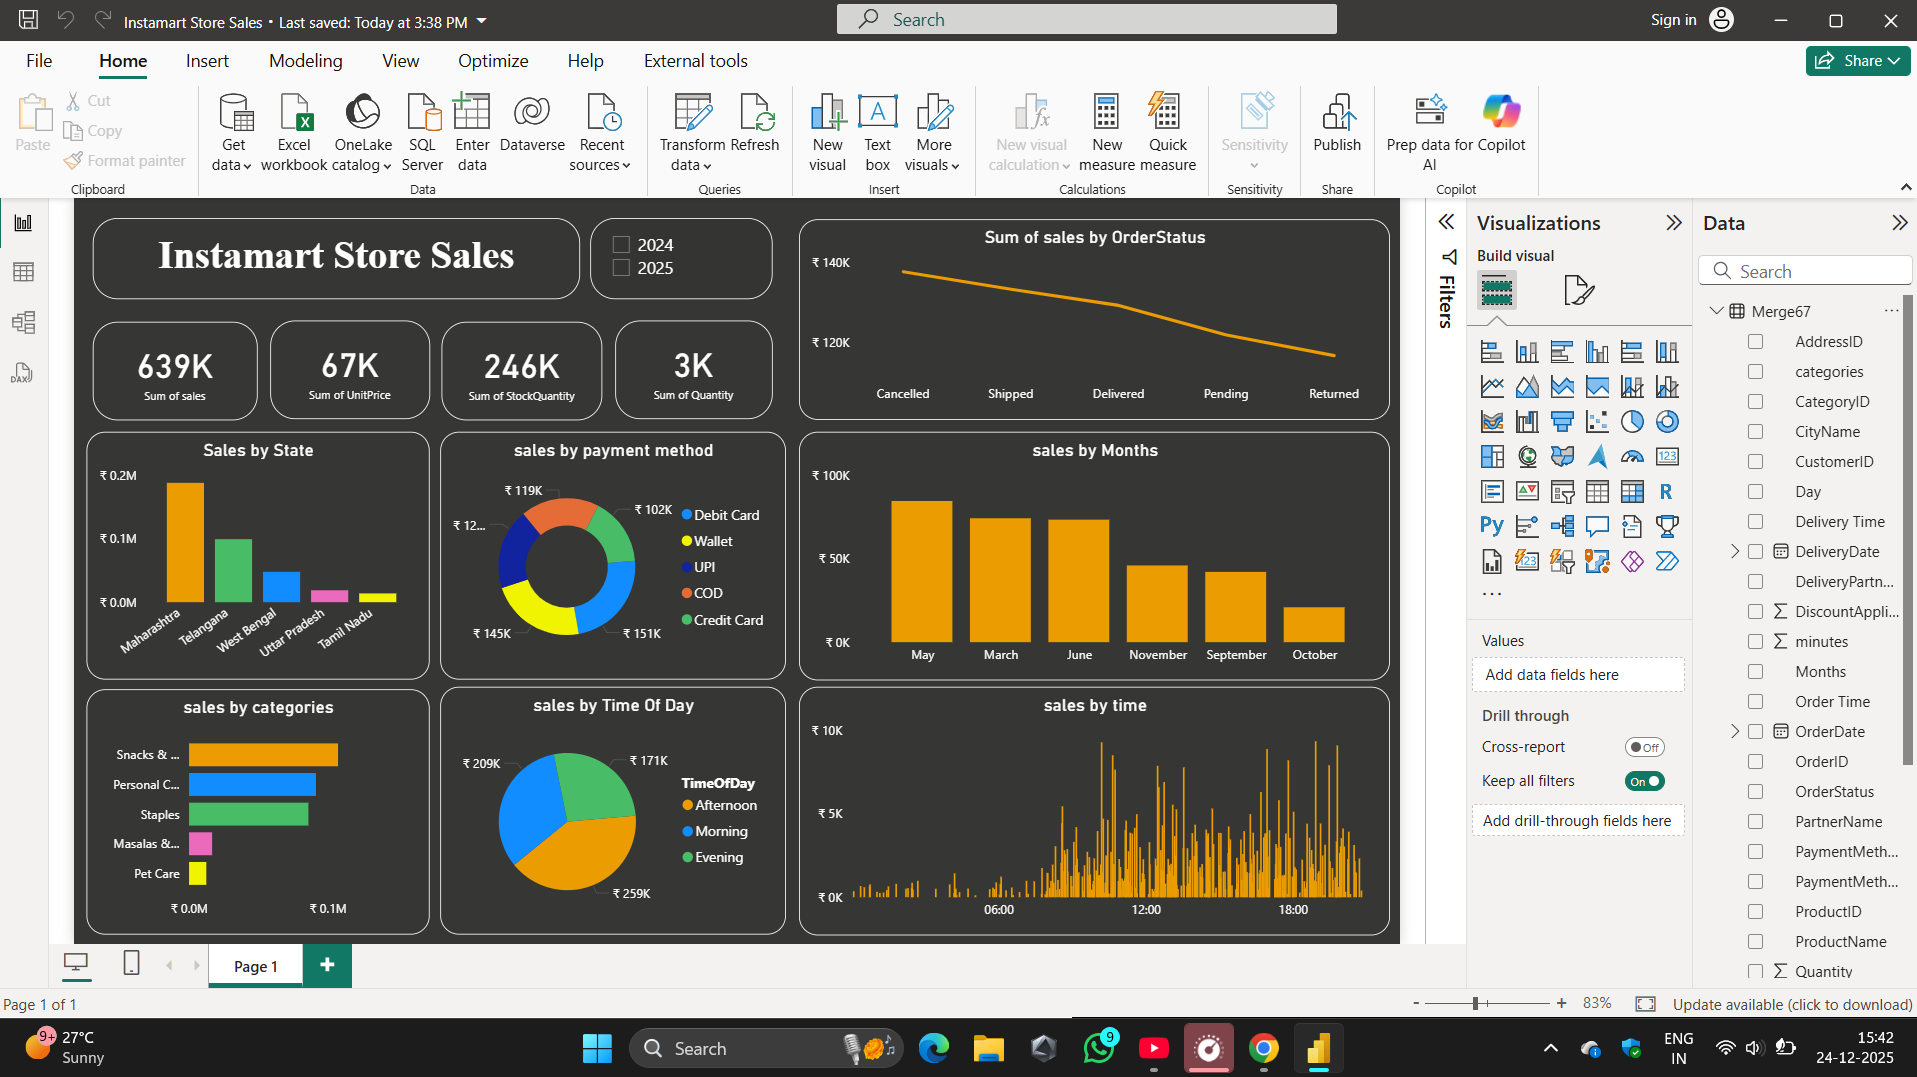

What the dashboard file says about the page in this screenshot:
{"tool":"powerbi","page":{"name":"Page 1","canvas":[1280,720],"ordinal":0},"visuals":[{"type":"card","fields":{"Values":["Sum(Merge67.TotalPrice)"]},"box":[18.5,119.8,159.3,95.1],"z":0},{"type":"card","fields":{"Values":["Sum(Merge67.StockQuantity)"]},"box":[354.3,119.8,155.6,95.1],"z":1000},{"type":"card","fields":{"Values":["Sum(Merge67.Quantity)"]},"box":[522.2,118.5,151.9,95.1],"z":2000},{"type":"card","fields":{"Values":["Sum(Merge67.UnitPrice)"]},"box":[188.9,118.5,154.3,95.1],"z":3000},{"type":"columnChart","title":" Sales by State","fields":{"Category":["Merge67.StateName"],"Y":["Sum(Merge67.TotalPrice)"]},"box":[12.3,225.9,330.9,239.5],"z":4000},{"type":"textbox","box":[18.1,19.3,470.5,78.4],"z":5000},{"type":"barChart","title":"sales by categories","fields":{"Category":["Merge67.categories"],"Y":["Sum(Merge67.sales)"]},"box":[12.3,474.1,330.9,237],"z":6000},{"type":"pieChart","title":"sales by Time Of Day","fields":{"Category":["Merge67.TimeOfDay"],"Y":["Sum(Merge67.sales)"]},"box":[353.1,471.6,333.3,239.5],"z":7000},{"type":"donutChart","title":"sales by payment method","fields":{"Y":["Sum(Merge67.sales)"],"Category":["Merge67.PaymentMethodName"]},"box":[353.1,225.9,333.3,239.5],"z":8000},{"type":"slicer","fields":{"Values":["Merge67.OrderDate.Variation.Date Hierarchy.Year"]},"box":[498.3,19.3,176.1,78.4],"z":9000},{"type":"columnChart","title":"sales by Months","fields":{"Category":["Merge67.Months"],"Y":["Sum(Merge67.sales)"]},"box":[699.7,225.6,570.6,240.1],"z":10000},{"type":"clusteredColumnChart","title":"sales by time","fields":{"Category":["Merge67.Order Time"],"Y":["Sum(Merge67.sales)"]},"box":[699.7,471.7,570.6,240.1],"z":11000},{"type":"lineChart","fields":{"Y":["Sum(Merge67.sales)"],"Category":["Merge67.OrderStatus"]},"box":[699.9,20,570.2,193.9],"z":12000}]}

Visuals, with their boxes on the page's 1280x720 design canvas (x1, y1, x2, y2). These are canvas units, not pixel positions in the 1917x1077 screenshot, which may show the page scaled, cropped or inside an application window:
card - Sum(Merge67.TotalPrice): detection(18, 120, 178, 215)
card - Sum(Merge67.StockQuantity): detection(354, 120, 510, 215)
card - Sum(Merge67.Quantity): detection(522, 118, 674, 214)
card - Sum(Merge67.UnitPrice): detection(189, 118, 343, 214)
" Sales by State" columnChart: detection(12, 226, 343, 465)
textbox: detection(18, 19, 489, 98)
"sales by categories" barChart: detection(12, 474, 343, 711)
"sales by Time Of Day" pieChart: detection(353, 472, 686, 711)
"sales by payment method" donutChart: detection(353, 226, 686, 465)
slicer - Merge67.OrderDate.Variation.Date Hierarchy.Year: detection(498, 19, 674, 98)
"sales by Months" columnChart: detection(700, 226, 1270, 466)
"sales by time" clusteredColumnChart: detection(700, 472, 1270, 712)
lineChart - Sum(Merge67.sales) x Merge67.OrderStatus: detection(700, 20, 1270, 214)
